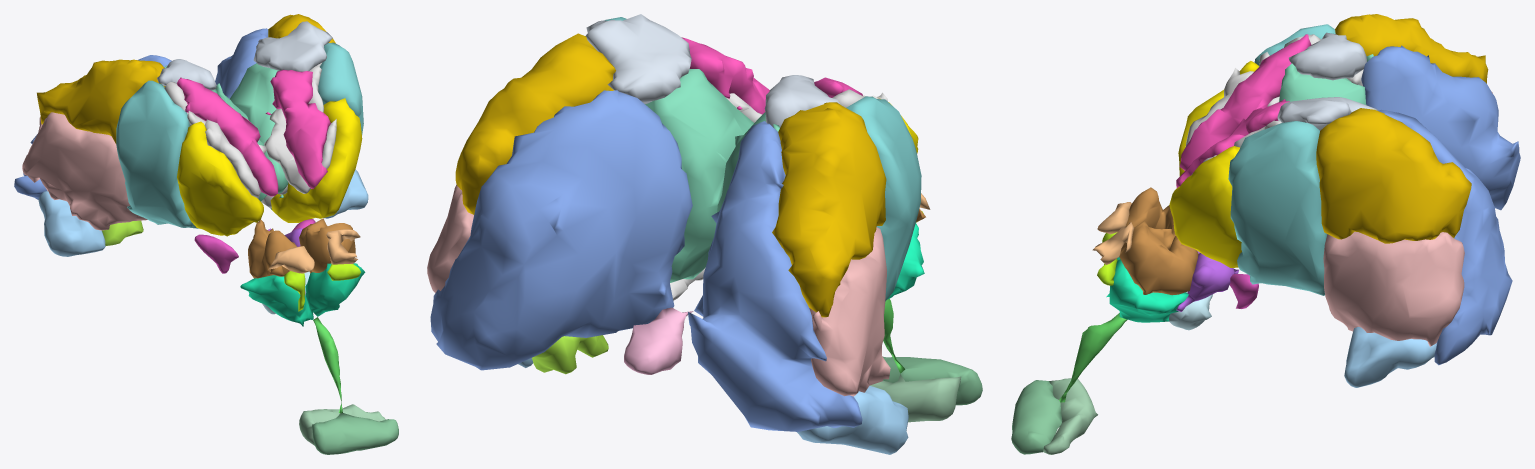
The model's file is diencephalon.lod2.glb.
The picture shows the model from 3 angles, left to right: view 1: azimuth 30°, elevation 25°; view 2: azimuth 150°, elevation 25°; view 3: azimuth 270°, elevation 25°; orthographic projection. The views are drawn at different scales.
Visible parts, largest first — view 1: ventral-posterolateral-thalamic-nucleus-r, ventral-lateral-thalamic-nucleus-r, ventral-anterior-thalamic-nucleus-r, lateral-posterior-thalamic-nucleus-r, ventral-anterior-thalamic-nucleus-l, anterior-thalamic-nucleus-l, anterior-thalamic-nucleus-r, adenohypophysis, lateral-dorsal-thalamic-nucleus-l, lateral-geniculate-body-r, dorsomedial-thalamic-nucleus-l, internal-medullary-lamina-l (+19 smaller); view 2: pulvinar-l, pulvinar-r, lateral-posterior-thalamic-nucleus-r, lateral-posterior-thalamic-nucleus-l, dorsomedial-thalamic-nucleus-l, ventral-posterolateral-thalamic-nucleus-r, ventral-lateral-thalamic-nucleus-r, lateral-dorsal-thalamic-nucleus-l, lateral-geniculate-body-r, pineal-body, anterior-thalamic-nucleus-l, neurohypophysis (+7 smaller); view 3: lateral-posterior-thalamic-nucleus-l, ventral-lateral-thalamic-nucleus-l, ventral-posterolateral-thalamic-nucleus-l, pulvinar-r, pulvinar-l, ventral-anterior-thalamic-nucleus-l, anterior-thalamic-nucleus-r, lateral-posterior-thalamic-nucleus-r, superior-tuberal-hypothalamus-l, lateral-geniculate-body-l, adenohypophysis, lateral-dorsal-thalamic-nucleus-r (+15 smaller).
Boxes of the visible parts, x1,y1,x2,y2 form: ventral-posterolateral-thalamic-nucleus-r: (22, 112, 147, 230); ventral-lateral-thalamic-nucleus-r: (116, 80, 198, 228); ventral-anterior-thalamic-nucleus-r: (177, 121, 263, 236); lateral-posterior-thalamic-nucleus-r: (37, 59, 165, 143); ventral-anterior-thalamic-nucleus-l: (270, 98, 362, 222); anterior-thalamic-nucleus-l: (265, 69, 330, 188); anterior-thalamic-nucleus-r: (177, 77, 278, 196); adenohypophysis: (312, 413, 398, 454); lateral-dorsal-thalamic-nucleus-l: (253, 21, 332, 71); lateral-geniculate-body-r: (38, 191, 105, 256); dorsomedial-thalamic-nucleus-l: (230, 63, 288, 198); internal-medullary-lamina-l: (262, 63, 336, 208); pulvinar-l: (430, 90, 692, 370); pulvinar-r: (688, 121, 862, 431); lateral-posterior-thalamic-nucleus-r: (772, 102, 886, 317); lateral-posterior-thalamic-nucleus-l: (455, 33, 615, 214); dorsomedial-thalamic-nucleus-l: (645, 69, 753, 282); ventral-posterolateral-thalamic-nucleus-r: (809, 227, 890, 396); ventral-lateral-thalamic-nucleus-r: (846, 96, 921, 301); lateral-dorsal-thalamic-nucleus-l: (586, 14, 691, 103); lateral-geniculate-body-r: (797, 385, 908, 454); pineal-body: (624, 307, 693, 374); anterior-thalamic-nucleus-l: (681, 37, 769, 114); neurohypophysis: (870, 374, 961, 422); lateral-posterior-thalamic-nucleus-l: (1316, 108, 1471, 243); ventral-lateral-thalamic-nucleus-l: (1228, 121, 1327, 295); ventral-posterolateral-thalamic-nucleus-l: (1323, 231, 1464, 346); pulvinar-r: (1361, 45, 1520, 210); pulvinar-l: (1378, 109, 1512, 365); ventral-anterior-thalamic-nucleus-l: (1169, 146, 1241, 267); anterior-thalamic-nucleus-r: (1179, 34, 1311, 170); lateral-posterior-thalamic-nucleus-r: (1335, 14, 1488, 83); superior-tuberal-hypothalamus-l: (1119, 220, 1198, 295); lateral-geniculate-body-l: (1344, 326, 1436, 387); adenohypophysis: (1011, 380, 1062, 454); lateral-dorsal-thalamic-nucleus-r: (1288, 32, 1366, 80).
Bounding box in the file's own units: 0.0479 × 0.0477 × 0.0573.
